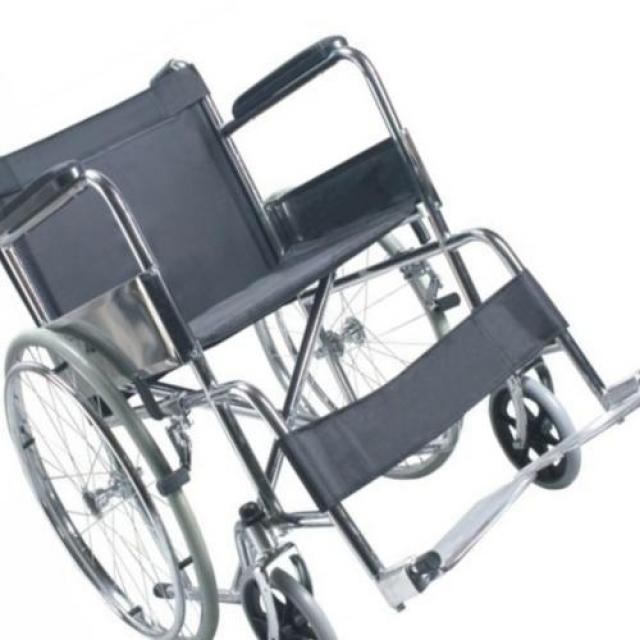wheelchair: (1, 28, 640, 640)
